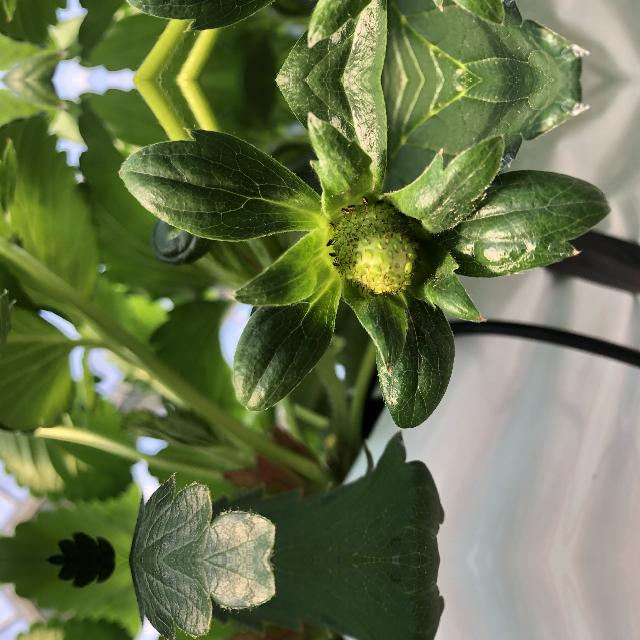Health_25: (328, 196, 427, 302)
